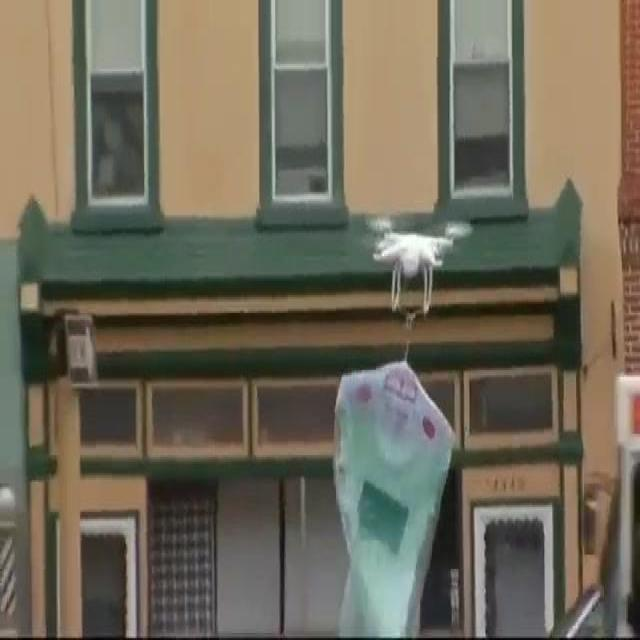UAV: (365, 215, 474, 315)
